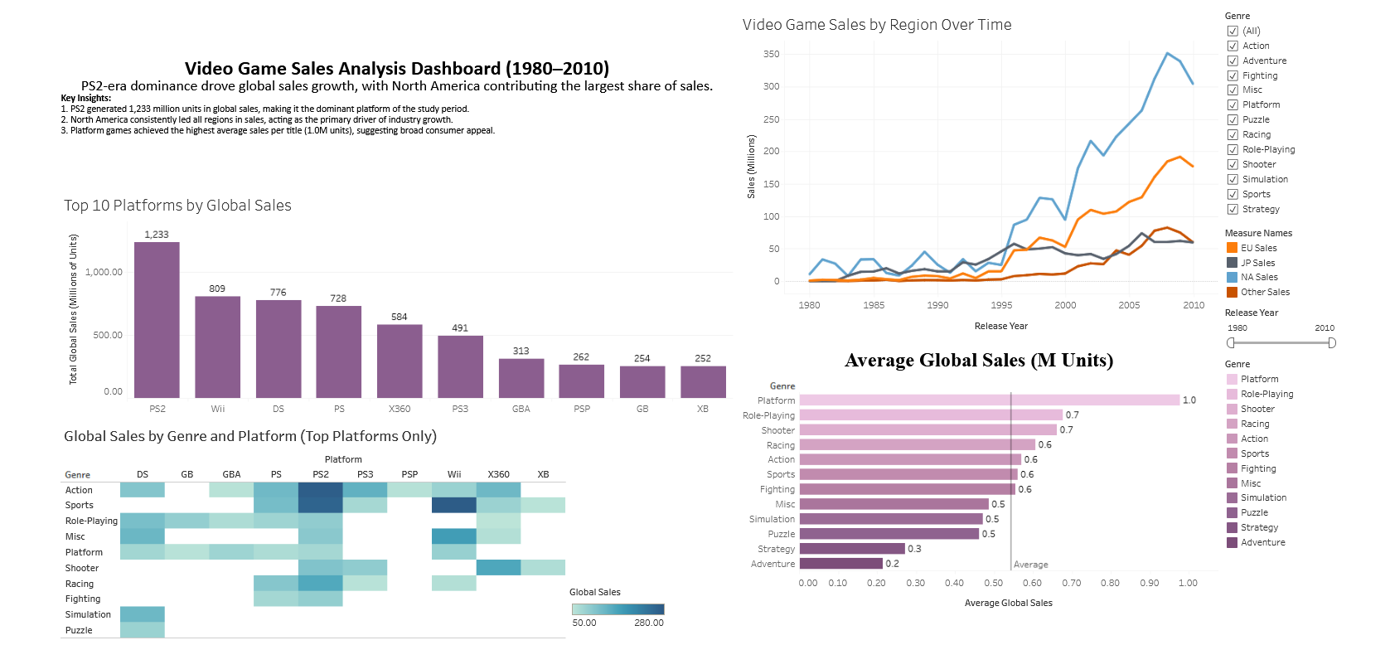

The dashboard page shown, as its layout file describes it:
{"tool":"tableau","page":{"name":"Video Game Sales Analysis Dashboard (1980–2010)","canvas":[1000,1000],"units":"permille","ordinal":0},"visuals":[{"type":"title","box":[4.9,9.1,495.1,277]},{"type":"worksheet","title":"Video Game Sales by Region Over Time","mark":"Line","cols":["Release Year"],"box":[499.9,9.1,397.8,509.7]},{"type":"filter","title":"Video Game Sales by Region Over Time","param":"[federated.04p6wim1lbm8om1cbxjb90u16m3n].[none:Genre:nk]","box":[897.8,9.1,97.3,380.2]},{"type":"worksheet","title":"Top 10 Platforms by Global Sales","mark":"Bar","rows":["Global_Sales"],"cols":["Platform"],"box":[4.9,286,495.1,352.4]},{"type":"legend","title":"Video Game Sales by Region Over Time","param":"[federated.04p6wim1lbm8om1cbxjb90u16m3n].[:Measure Names]","box":[897.8,389.3,97.3,129.4]},{"type":"worksheet","title":"Average Global Sales by Genre","mark":"Bar","rows":["Genre"],"cols":["Global_Sales"],"box":[499.9,518.7,397.8,472.2]},{"type":"filter","title":"Average Global Sales by Genre","param":"[federated.04p6wim1lbm8om1cbxjb90u16m3n].[none:Release Year:qk]","box":[897.8,518.7,97.3,82.9]},{"type":"legend","title":"Average Global Sales by Genre","param":"[federated.04p6wim1lbm8om1cbxjb90u16m3n].[none:Genre:nk]","box":[897.8,601.6,97.3,320.1]},{"type":"worksheet","title":"Global Sales by Genre and Platform (Top Platforms Only)","mark":"Automatic","rows":["Genre"],"cols":["Platform"],"box":[4.9,638.5,495.1,352.4]},{"type":"legend","title":"Global Sales by Genre and Platform (Top Platforms Only)","param":"[federated.04p6wim1lbm8om1cbxjb90u16m3n].[sum:Global_Sales:qk]","box":[399.6,895.6,75.4,76]}]}

Visuals, with their boxes on the dashboard's canvas, which has no fixed pixel size, in thousandths of its width and height (x1, y1, x2, y2). These are canvas units, not pixel positions in the 1390x645 screenshot, which may show the page scaled, cropped or inside an application window:
title: detection(5, 9, 500, 286)
"Video Game Sales by Region Over Time" worksheet (Line marks): detection(500, 9, 898, 519)
"Video Game Sales by Region Over Time" filter: detection(898, 9, 995, 389)
"Top 10 Platforms by Global Sales" worksheet (Bar marks): detection(5, 286, 500, 638)
"Video Game Sales by Region Over Time" legend: detection(898, 389, 995, 519)
"Average Global Sales by Genre" worksheet (Bar marks): detection(500, 519, 898, 991)
"Average Global Sales by Genre" filter: detection(898, 519, 995, 602)
"Average Global Sales by Genre" legend: detection(898, 602, 995, 922)
"Global Sales by Genre and Platform (Top Platforms Only)" worksheet: detection(5, 638, 500, 991)
"Global Sales by Genre and Platform (Top Platforms Only)" legend: detection(400, 896, 475, 972)
